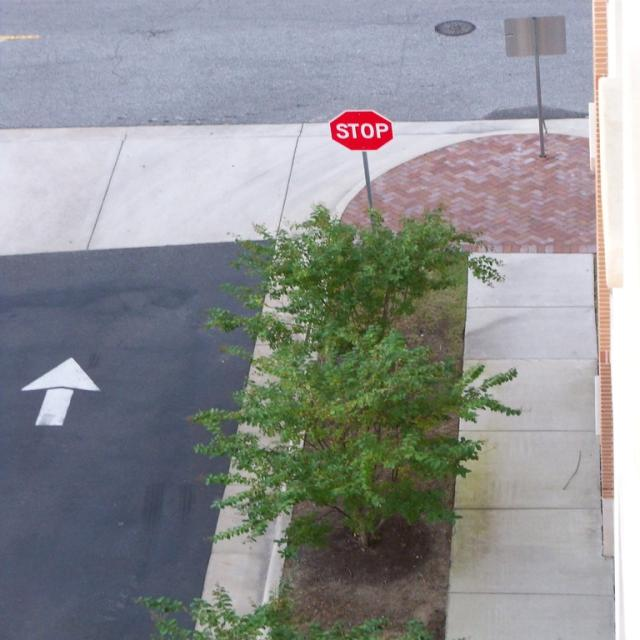Stop-sign: (327, 109, 392, 152)
